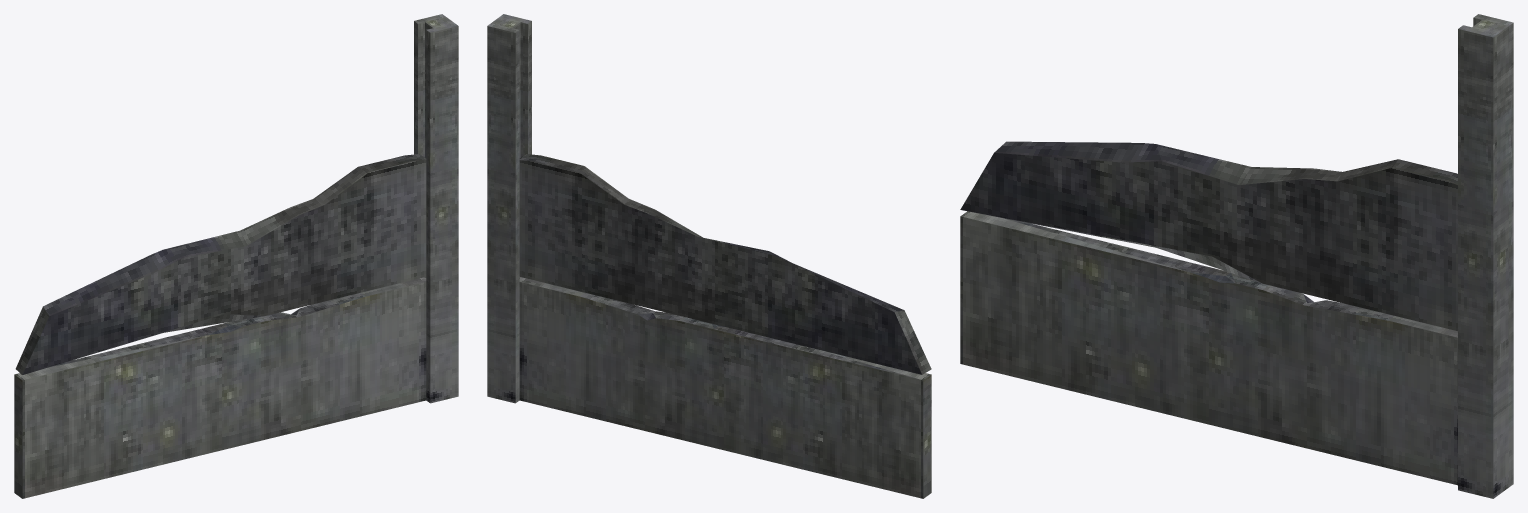
The model's file is lf_plackard_broken.glb.
3 renders of one model, left to right at view 1: azimuth 30°, elevation 25°; view 2: azimuth 150°, elevation 25°; view 3: azimuth 330°, elevation 25°, orthographic. The views are drawn at different scales.
Parts seen in each view (by area): view 1: plackard_broken; view 2: plackard_broken; view 3: plackard_broken.
Part boxes in pixels (x1,y1,x2,y2): plackard_broken: (14, 14, 458, 498); plackard_broken: (487, 14, 931, 498); plackard_broken: (960, 14, 1513, 498).
Size of the model in its own units: 3.05 by 2.5 by 0.2.
1 material, 1 textured.
